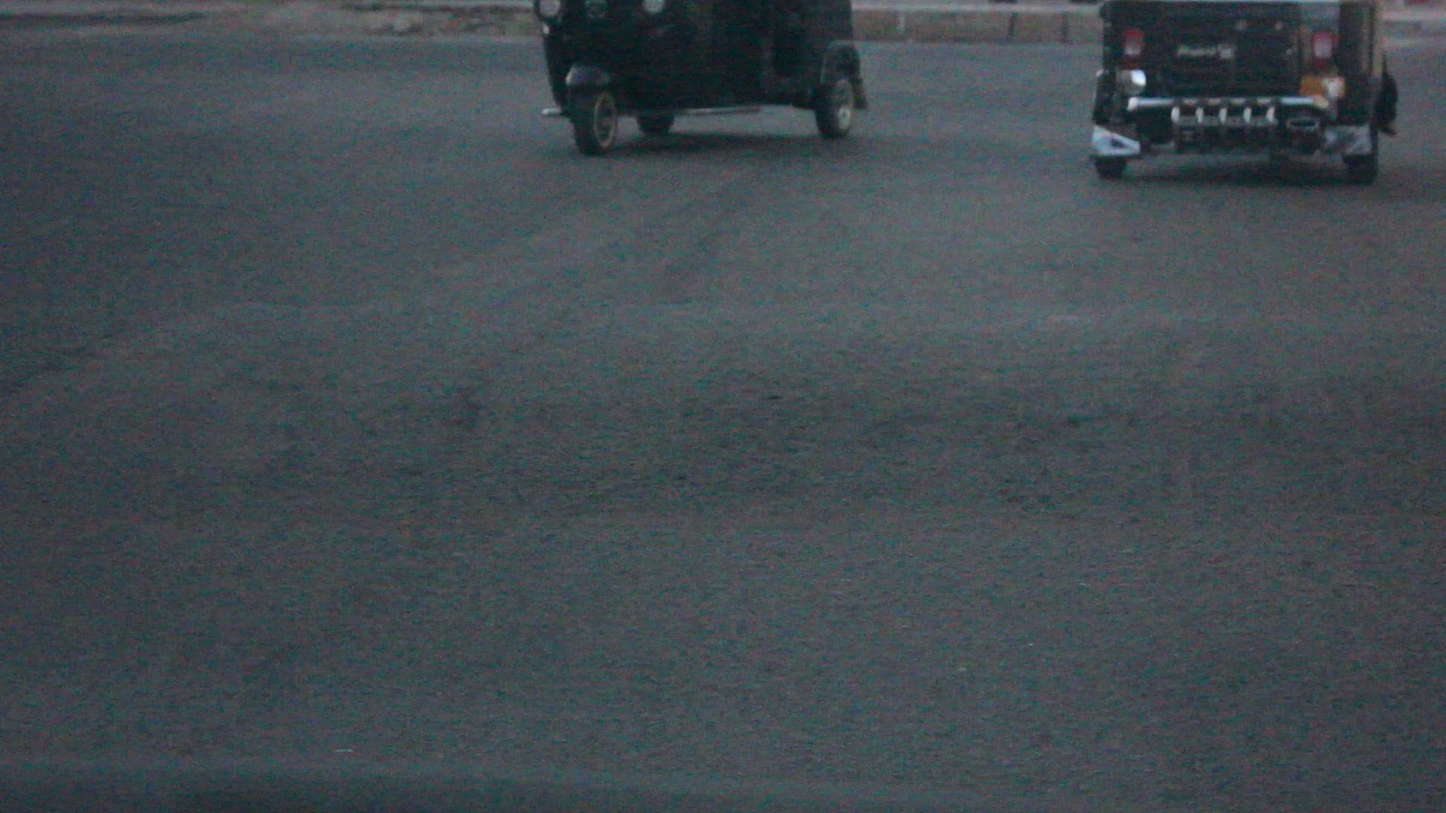Bump: (0, 295, 1446, 527)
